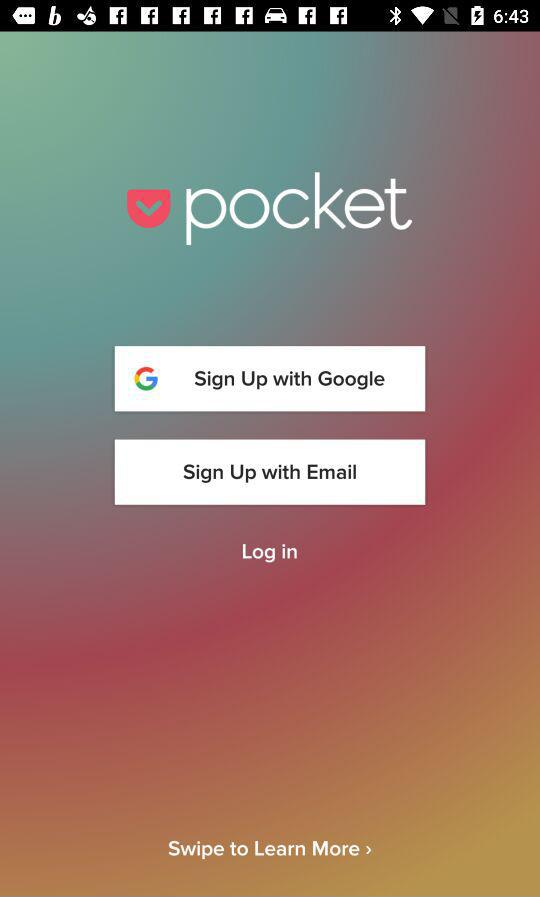Image: (127, 172, 413, 248)
Text: (168, 840, 373, 861), (242, 543, 299, 564)
TextButton: (115, 439, 426, 506), (115, 346, 426, 413)
UpperTaskBar: (1, 1, 540, 33)
